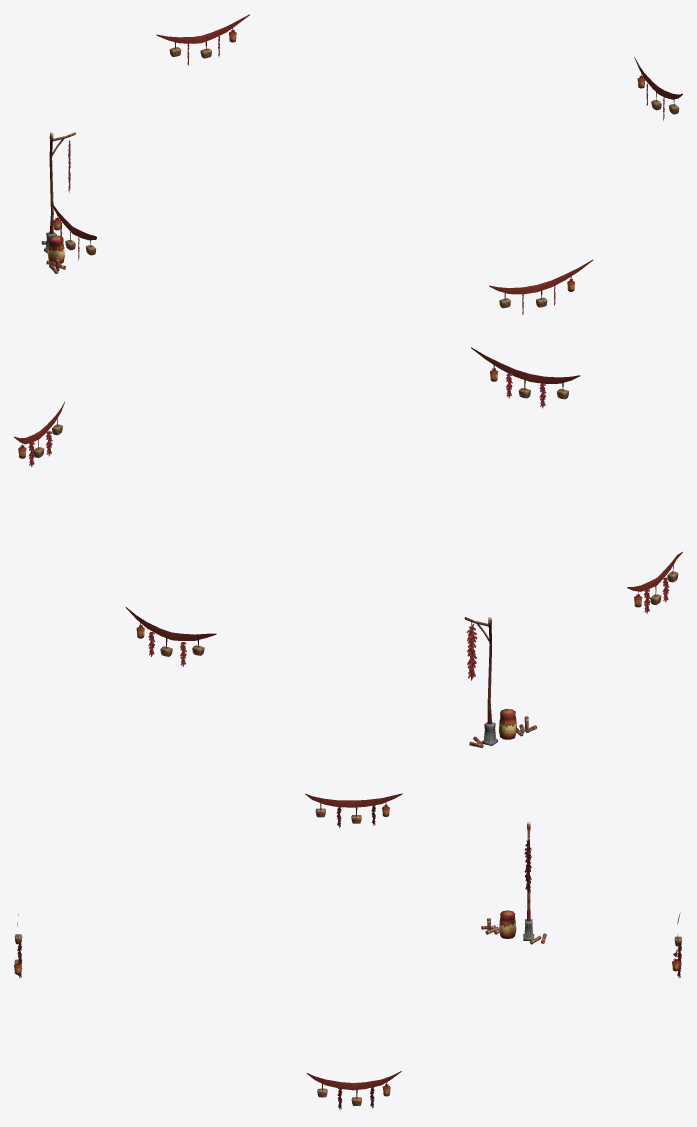
Rendered from Jr_zhuangshi01_01_55_47_0201out.fbx.
3 views of the same model, one above another, from view 1: azimuth 30°, elevation 25°; view 2: azimuth 150°, elevation 25°; view 3: azimuth 270°, elevation 25° (orthographic). The views are drawn at different scales.
Visible parts, largest first — view 1: Jr_zhuangshi01_01; view 2: Jr_zhuangshi01_01; view 3: Jr_zhuangshi01_01.
Boxes of the visible parts, x1,y1,x2,y2 form: Jr_zhuangshi01_01: [41, 14, 682, 314]; Jr_zhuangshi01_01: [14, 347, 682, 747]; Jr_zhuangshi01_01: [14, 793, 681, 1109].
Size of the model in its own units: 29.12 by 5.61 by 29.13.
